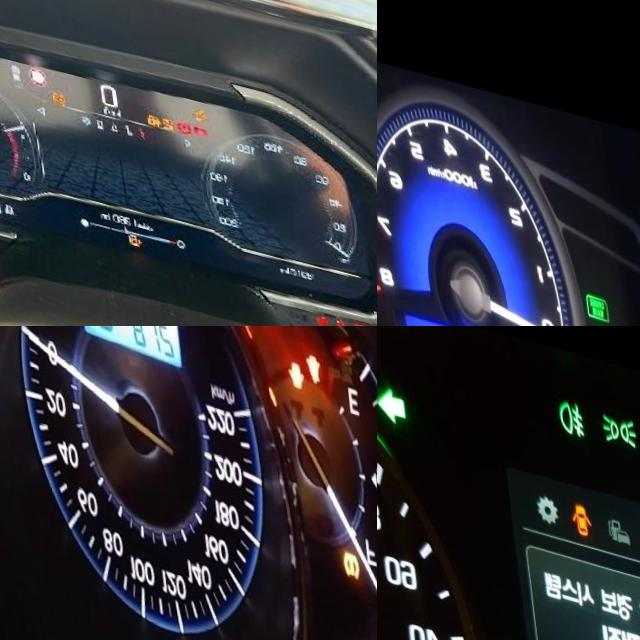Doors: (566, 486, 589, 524)
FrontFogLight: (557, 383, 584, 424)
Low fuel level: (118, 215, 128, 228)
Seat Belt: (297, 328, 316, 364)
SideLamp: (600, 395, 637, 433)
